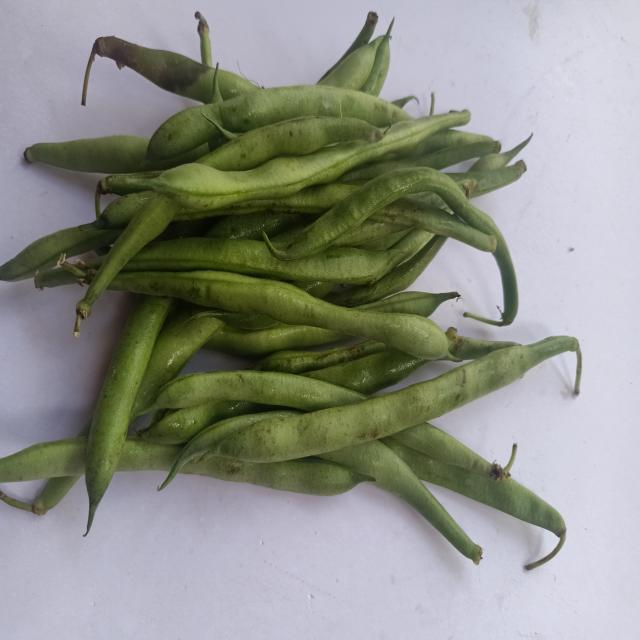Beans: (215, 336, 579, 462), (99, 109, 471, 210), (108, 270, 449, 359), (85, 295, 171, 533), (146, 84, 410, 161), (122, 237, 420, 284), (148, 370, 366, 412), (90, 35, 214, 102), (182, 457, 372, 496), (0, 438, 86, 484), (116, 437, 180, 472), (218, 68, 258, 99)
